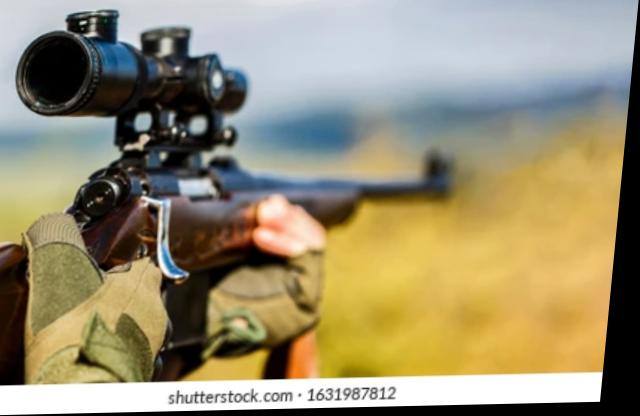other: (0, 172, 319, 389)
